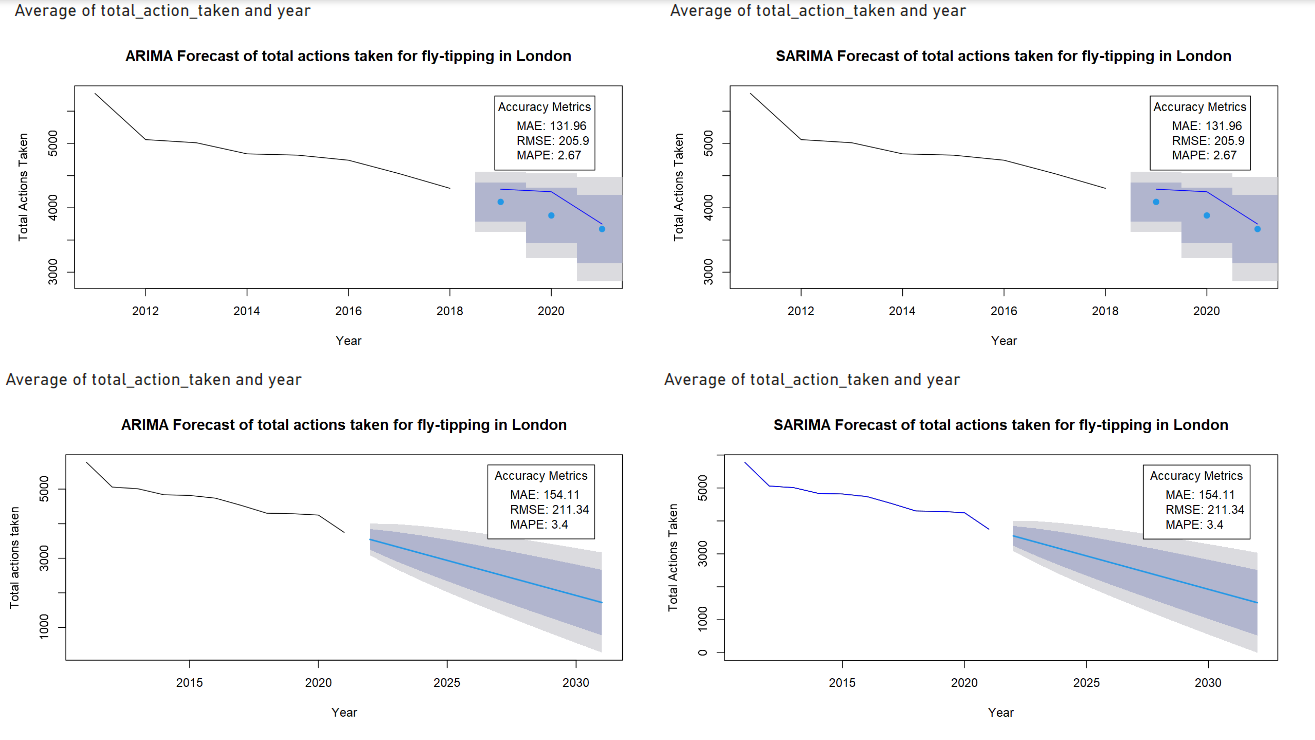

This screenshot's page, from the dashboard's own definition file:
{"tool":"powerbi","page":{"name":"Model Evaluation","canvas":[1280,720],"ordinal":2},"visuals":[{"type":"scriptVisual","fields":{"Values":["Avg(fly-tipping-borough (2).total_action_taken)","fly-tipping-borough (2).year"]},"box":[647.3,0,632.4,359.3],"z":1},{"type":"scriptVisual","fields":{"Values":["Avg(fly-tipping-borough (2).total_action_taken)","fly-tipping-borough (2).year"]},"box":[641.3,359.3,638.4,362.2],"z":2},{"type":"scriptVisual","fields":{"Values":["Avg(fly-tipping-borough (2).total_action_taken)","fly-tipping-borough (2).year"]},"box":[8.9,0,632.4,359.3],"z":3},{"type":"scriptVisual","fields":{"Values":["Avg(fly-tipping-borough (2).total_action_taken)","fly-tipping-borough (2).year"]},"box":[0,359.3,641.3,362.2],"z":4}]}

Visuals, with their boxes in screenshot pixels (x1, y1, x2, y2), scaled from the page's 1280x720 canvas onto the 1315x740 screenshot:
scriptVisual - Avg(fly-tipping-borough (2).total_action_taken) x fly-tipping-borough (2).year: 665/0/1314/369
scriptVisual - Avg(fly-tipping-borough (2).total_action_taken) x fly-tipping-borough (2).year: 659/369/1314/739
scriptVisual - Avg(fly-tipping-borough (2).total_action_taken) x fly-tipping-borough (2).year: 9/0/659/369
scriptVisual - Avg(fly-tipping-borough (2).total_action_taken) x fly-tipping-borough (2).year: 0/369/659/739
